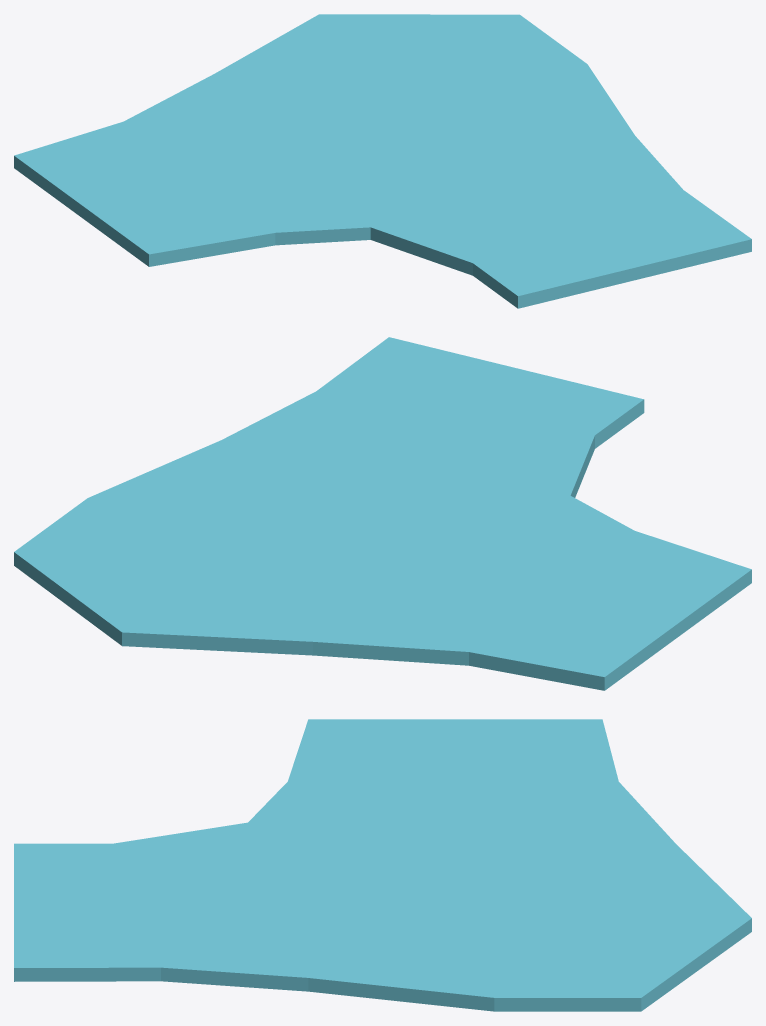
Rendered from WaterTwoCorner.fbx.
3 views of the same model, one above another, from view 1: azimuth 30°, elevation 25°; view 2: azimuth 150°, elevation 25°; view 3: azimuth 270°, elevation 25° (orthographic). The views are drawn at different scales.
Parts seen in each view (by area): view 1: WaterTwoCorner; view 2: WaterTwoCorner; view 3: WaterTwoCorner.
Boxes of the visible parts, x1,y1,x2,y2 form: WaterTwoCorner: [14, 14, 751, 308]; WaterTwoCorner: [14, 337, 751, 690]; WaterTwoCorner: [14, 719, 751, 1011].
Bounding box in the file's own units: 254 × 5.82 × 284.
